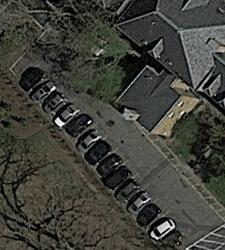parkingspot: (8, 51, 187, 247)
